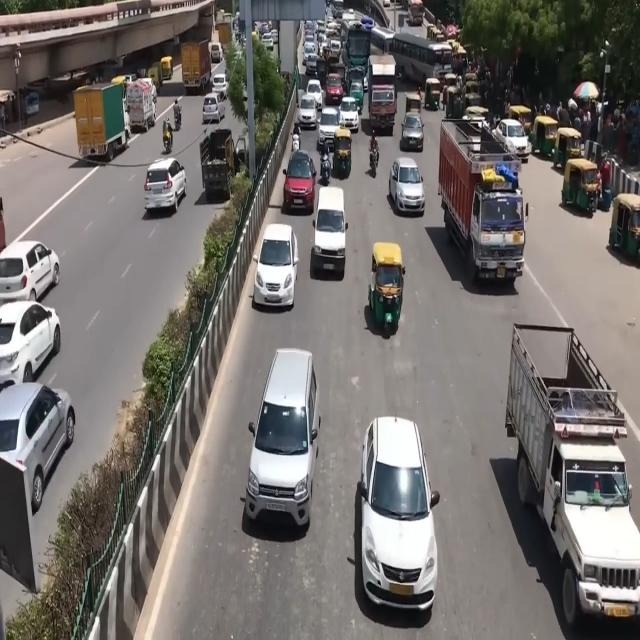auto: (368, 240, 407, 334), (561, 157, 600, 216), (608, 192, 640, 262), (554, 126, 584, 172), (531, 114, 560, 160), (333, 126, 353, 177), (424, 77, 442, 111), (404, 90, 422, 117), (443, 82, 459, 112)
bike-auto: (161, 99, 182, 152), (319, 148, 332, 184), (368, 144, 378, 176), (163, 129, 173, 155), (174, 98, 182, 130)
